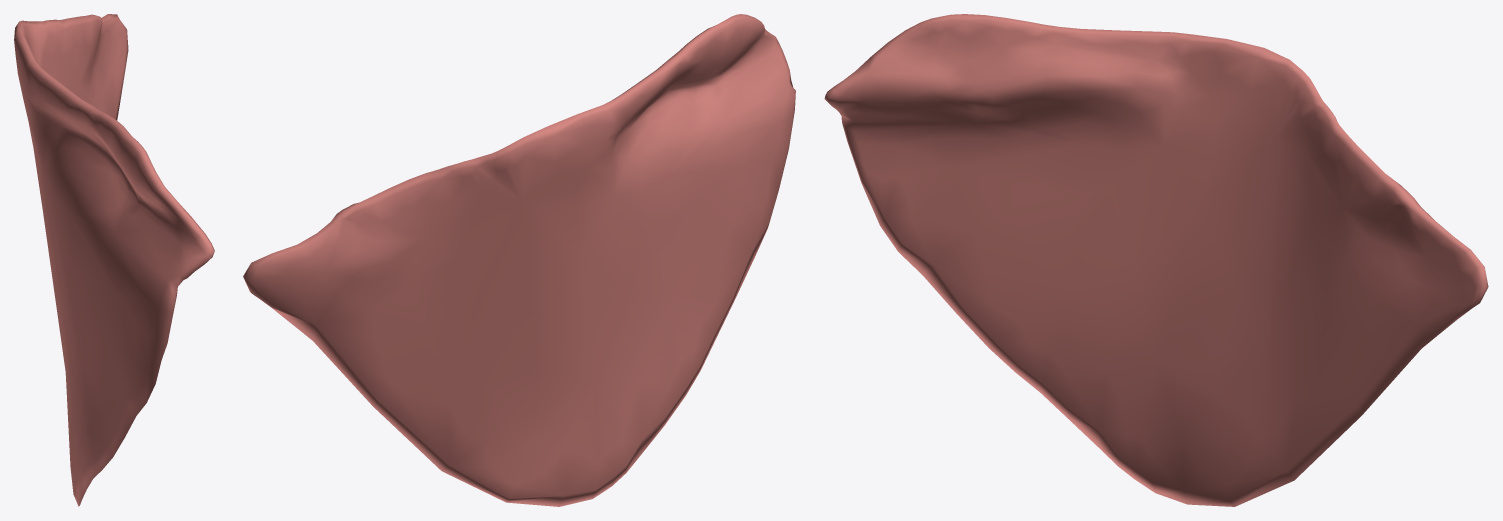
3 views of the same model, side by side, from view 1: azimuth 30°, elevation 25°; view 2: azimuth 150°, elevation 25°; view 3: azimuth 270°, elevation 25° (orthographic). The views are drawn at different scales.
Parts seen in each view (by area): view 1: ZA_e92f032b5867fe0f; view 2: ZA_e92f032b5867fe0f; view 3: ZA_e92f032b5867fe0f.
Boxes of the visible parts, left/top/right/bottom form: ZA_e92f032b5867fe0f: left=14, top=14, right=214, bottom=506; ZA_e92f032b5867fe0f: left=243, top=14, right=795, bottom=506; ZA_e92f032b5867fe0f: left=824, top=14, right=1488, bottom=506.
Bounding box in the file's own units: 0.0112 × 0.0176 × 0.0231.
